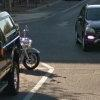Motorcycle: (15, 19, 44, 76)
